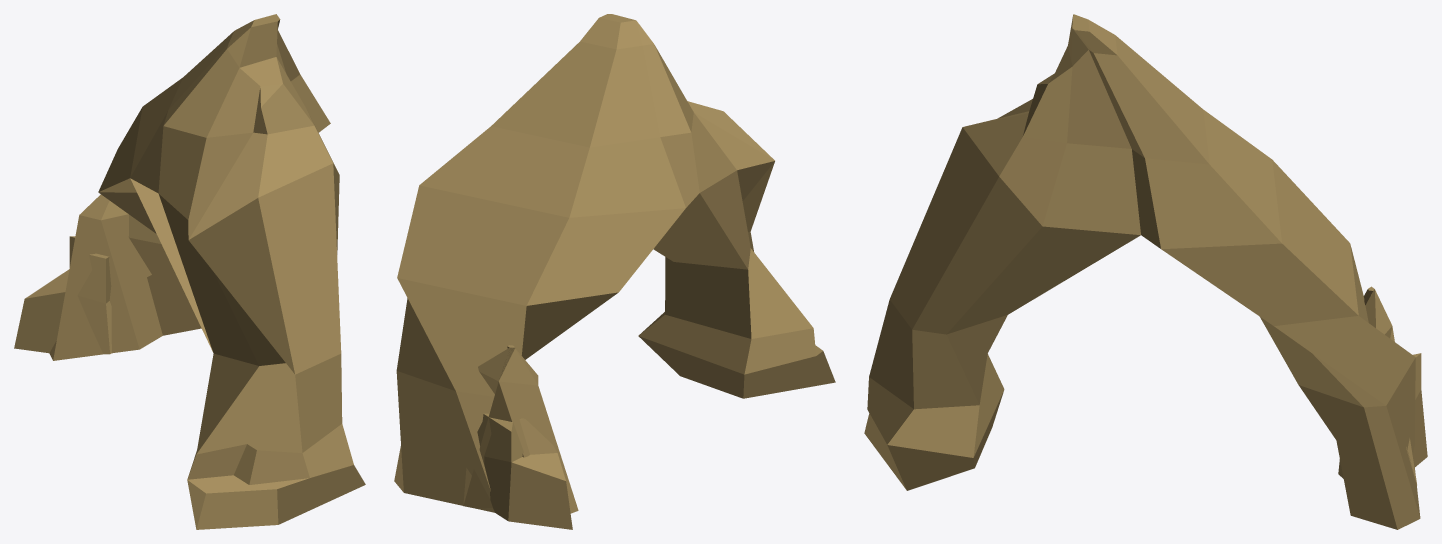
Rendered from Stone7.fbx.
3 views of the same model, side by side, from view 1: azimuth 30°, elevation 25°; view 2: azimuth 150°, elevation 25°; view 3: azimuth 270°, elevation 25° (orthographic). The views are drawn at different scales.
Visible parts, largest first — view 1: Circle.012; view 2: Circle.012; view 3: Circle.012.
Part boxes in pixels (x1,y1,x2,y2): Circle.012: (14,14,365,529); Circle.012: (394,14,835,529); Circle.012: (864,14,1427,529).
Bounding box in the file's own units: 849 × 1196 × 1341.
